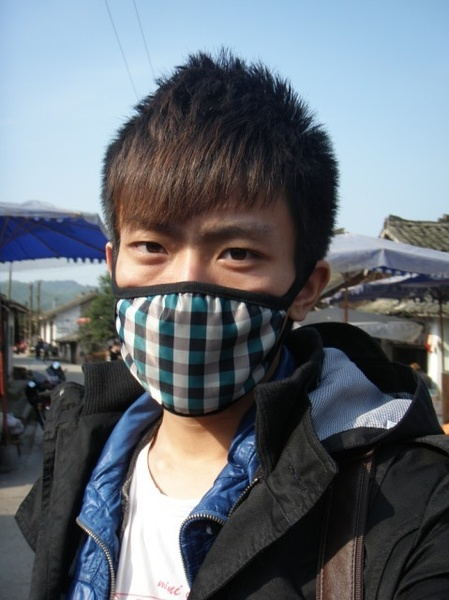face_mask: (115, 143, 293, 414)
